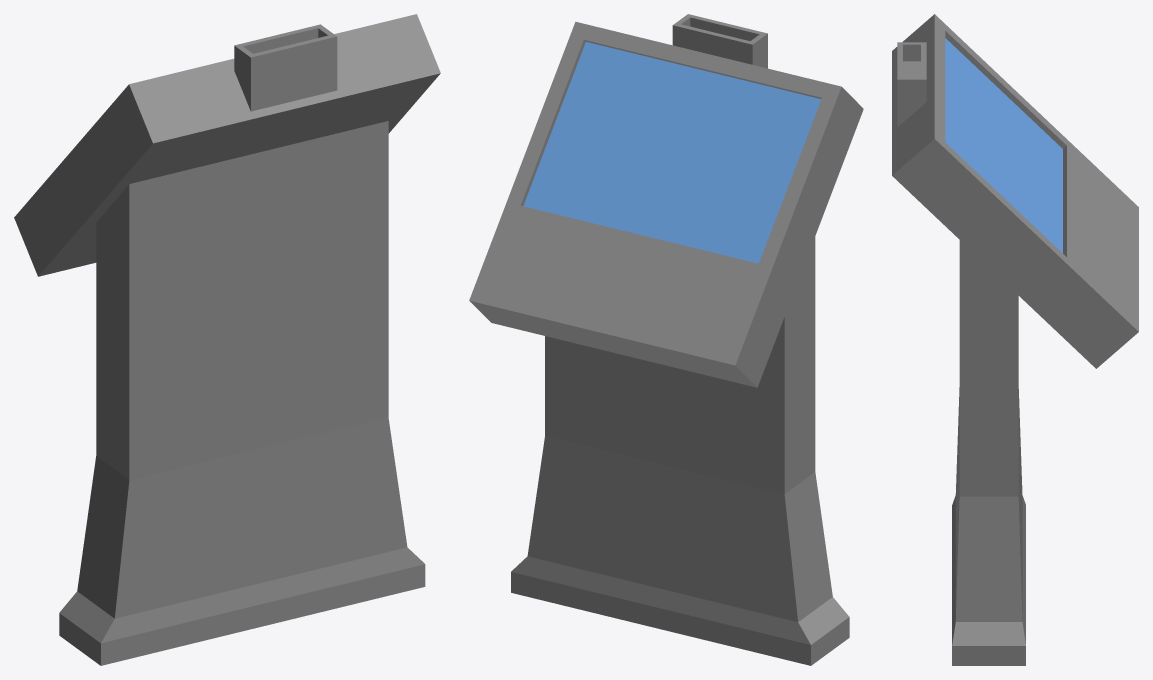
File: Menu.fbx
3 views of the same model, side by side, from view 1: azimuth 30°, elevation 25°; view 2: azimuth 150°, elevation 25°; view 3: azimuth 270°, elevation 25° (orthographic). The views are drawn at different scales.
Visible parts, largest first — view 1: Cube.001, Screen, Cube.002; view 2: Screen, Cube.001, Cube.002; view 3: Screen, Cube.001, Cube.002.
Boxes of the visible parts, left/top/right/bottom form: Cube.001: left=59, top=121, right=425, bottom=665; Screen: left=14, top=14, right=440, bottom=276; Cube.002: left=234, top=24, right=337, bottom=111; Screen: left=469, top=21, right=863, bottom=387; Cube.001: left=511, top=237, right=849, bottom=665; Cube.002: left=672, top=14, right=767, bottom=68; Screen: left=892, top=14, right=1138, bottom=368; Cube.001: left=952, top=240, right=1025, bottom=665; Cube.002: left=897, top=42, right=926, bottom=126.
Size of the model in its own units: 226 by 400 by 167.
